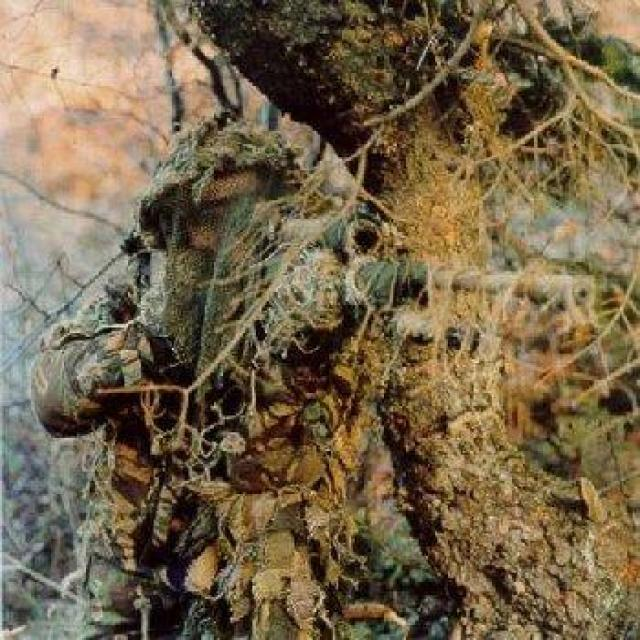Human: (29, 106, 593, 622)
